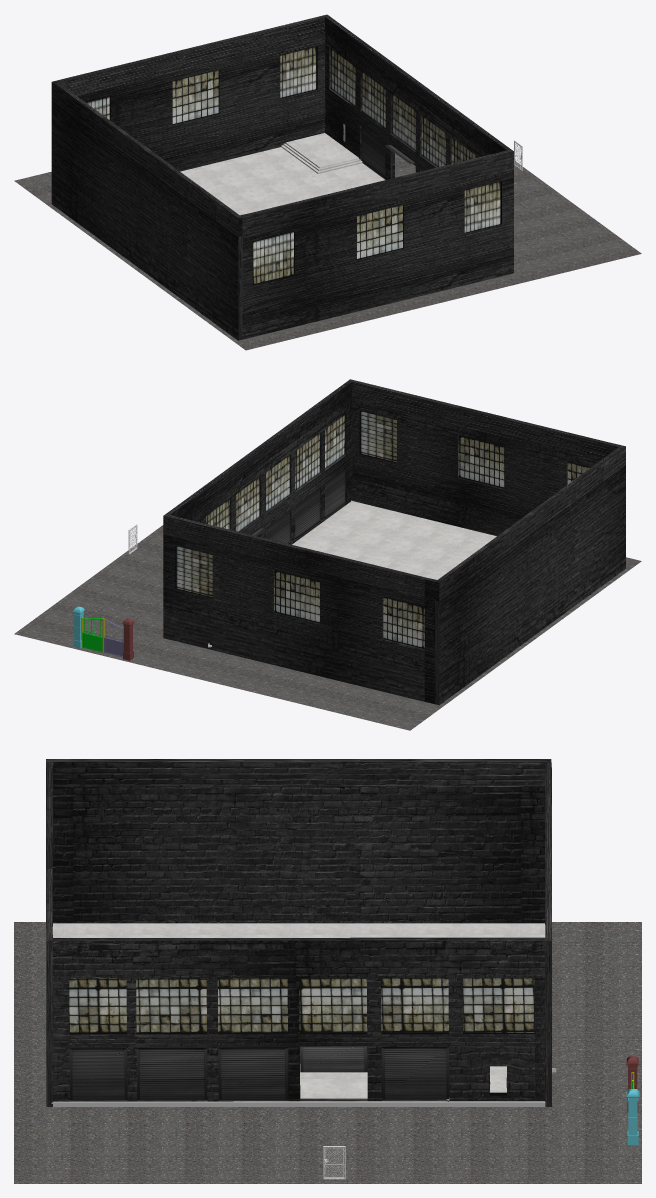
File: TonyLairOutside.fbx
The picture shows the model from 3 angles, top to bottom: view 1: azimuth 30°, elevation 25°; view 2: azimuth 150°, elevation 25°; view 3: azimuth 270°, elevation 25°; orthographic projection. The views are drawn at different scales.
Parts seen in each view (by area): view 1: Cube.041, Plane, Cube; view 2: Cube.041, Plane, Cube, RightPillar.002; view 3: Cube.041, Plane, Cube, RightPillar.002, Door_MetalWire.
Boxes of the visible parts, <box> form: Cube.041: <box>51,14,513,340</box>; Plane: <box>14,124,641,350</box>; Cube: <box>180,133,384,215</box>; Cube.041: <box>163,379,625,705</box>; Plane: <box>14,525,641,730</box>; Cube: <box>208,500,496,647</box>; RightPillar.002: <box>72,606,134,660</box>; Cube.041: <box>46,759,551,1106</box>; Plane: <box>14,922,641,1183</box>; Cube: <box>51,923,556,1106</box>; RightPillar.002: <box>626,1056,639,1145</box>; Door_MetalWire: <box>323,1146,345,1179</box>.
Size of the model in its own units: 34.56 by 10.31 by 35.02.
